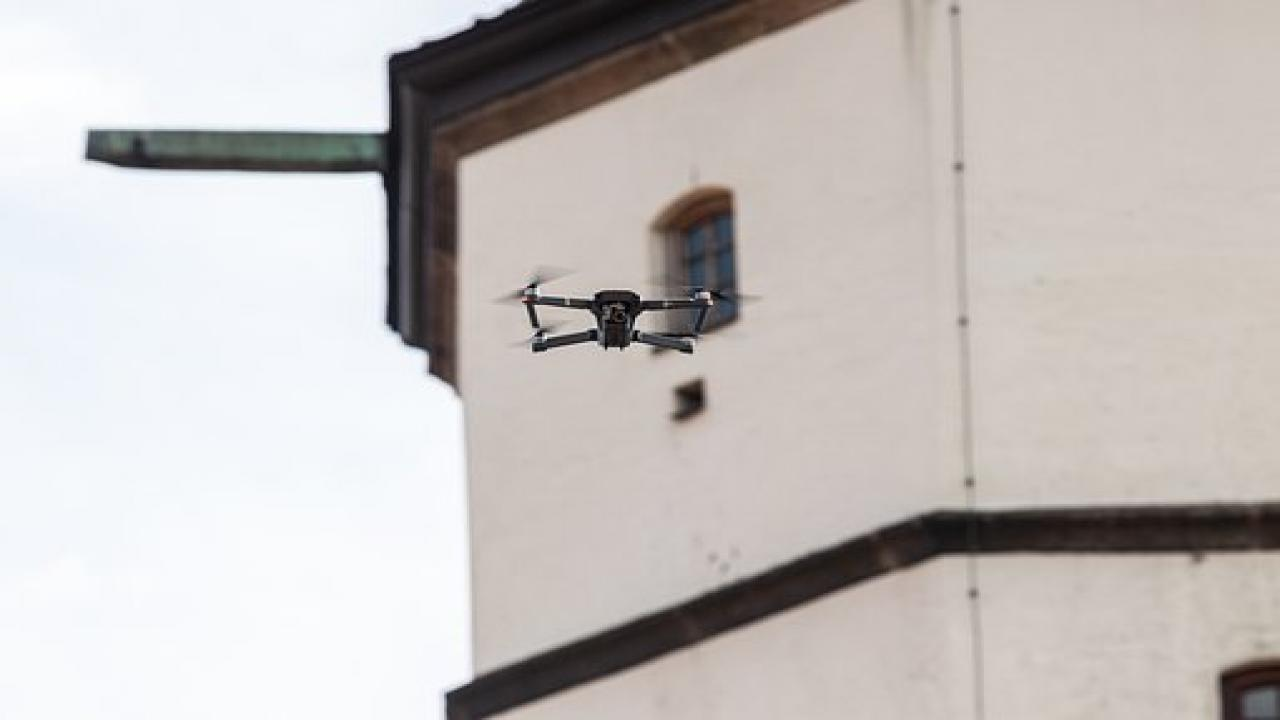Drone: (476, 252, 774, 373)
